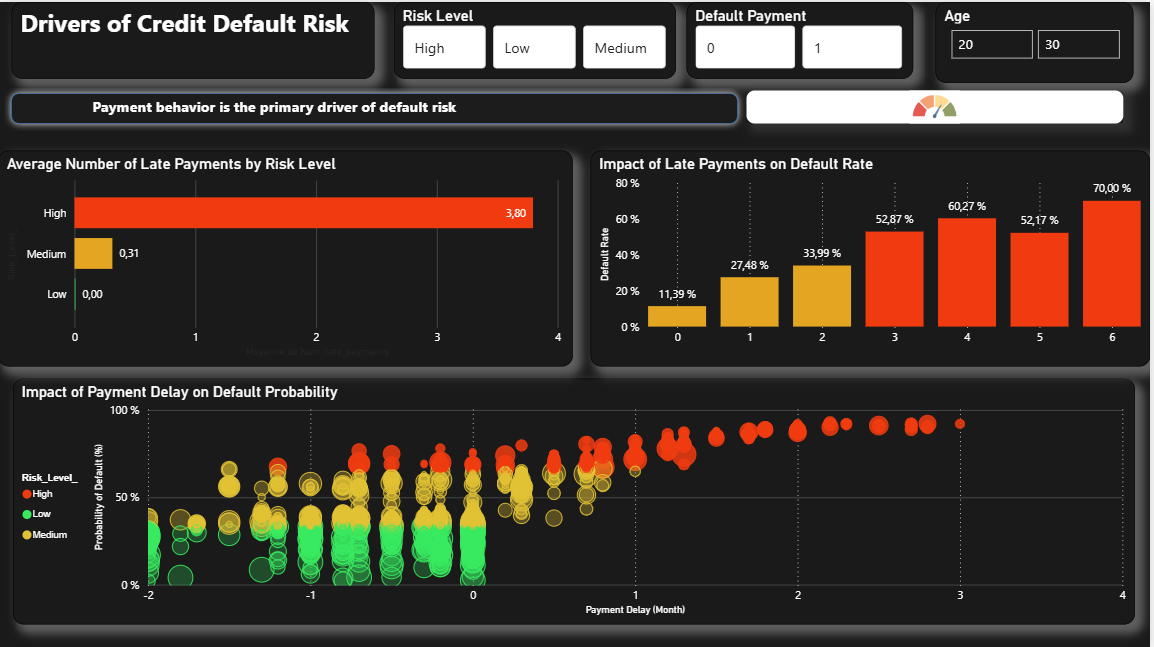

The page's visual inventory and layout, read from the dashboard file:
{"tool":"powerbi","page":{"name":"Drivers of Credit Default Risk","canvas":[1280,720],"ordinal":1},"visuals":[{"type":"advancedSlicerVisual","title":"Risk Level","fields":{"Values":["credit_risk_dataset.Risk_Level_"]},"box":[440,0,313.3,85],"z":0},{"type":"advancedSlicerVisual","title":"Default Payment","fields":{"Values":["credit_risk_dataset.Actual_Default"]},"box":[765,0,251.7,85],"z":1000},{"type":"slicer","title":"Age","fields":{"Values":["credit_risk_dataset.Age"]},"box":[1041.7,0,220,90],"z":2000},{"type":"scatterChart","title":"Impact of Payment Delay on Default Probability","fields":{"Y":["credit_risk_dataset.Average Probability Default"],"X":["Avg(credit_risk_dataset.Average_delay)"],"Category":["credit_risk_dataset.Customer_id"],"Size":["Sum(credit_risk_dataset.Credit_limit)"],"Series":["credit_risk_dataset.Risk_Level_"]},"box":[16.7,418.3,1246.7,273.3],"z":3000},{"type":"clusteredBarChart","title":"Average Number of Late Payments by Risk Level","fields":{"Y":["Avg(credit_risk_dataset.Num_late_payments)"],"Category":["credit_risk_dataset.Risk_Level_"]},"box":[0,165,638.3,240],"z":4000},{"type":"textbox","title":"Drivers of Credit Default Risk","box":[15,0,403.3,85],"z":6000},{"type":"image","box":[831.7,98.3,418.3,36.7],"z":8000},{"type":"columnChart","title":"Impact of Late Payments on Default Rate","fields":{"Y":["credit_risk_dataset.Default Rate"],"Category":["credit_risk_dataset.Num_late_payments"]},"box":[658.3,165,621.7,240],"z":8002},{"type":"shape","box":[6.7,93.3,823.3,50],"z":8003},{"type":"textbox","box":[100,100,690,35],"z":8004}]}

Visuals, with their boxes in screenshot pixels (x1, y1, x2, y2), scaled from the page's 1280x720 canvas onto the 1154x647 screenshot:
"Risk Level" advancedSlicerVisual: (397,0,679,76)
"Default Payment" advancedSlicerVisual: (690,0,917,76)
"Age" slicer: (939,0,1138,81)
"Impact of Payment Delay on Default Probability" scatterChart: (15,376,1139,621)
"Average Number of Late Payments by Risk Level" clusteredBarChart: (0,148,575,364)
"Drivers of Credit Default Risk" textbox: (14,0,377,76)
image: (750,88,1127,121)
"Impact of Late Payments on Default Rate" columnChart: (593,148,1153,364)
shape: (6,84,748,129)
textbox: (90,90,712,121)
